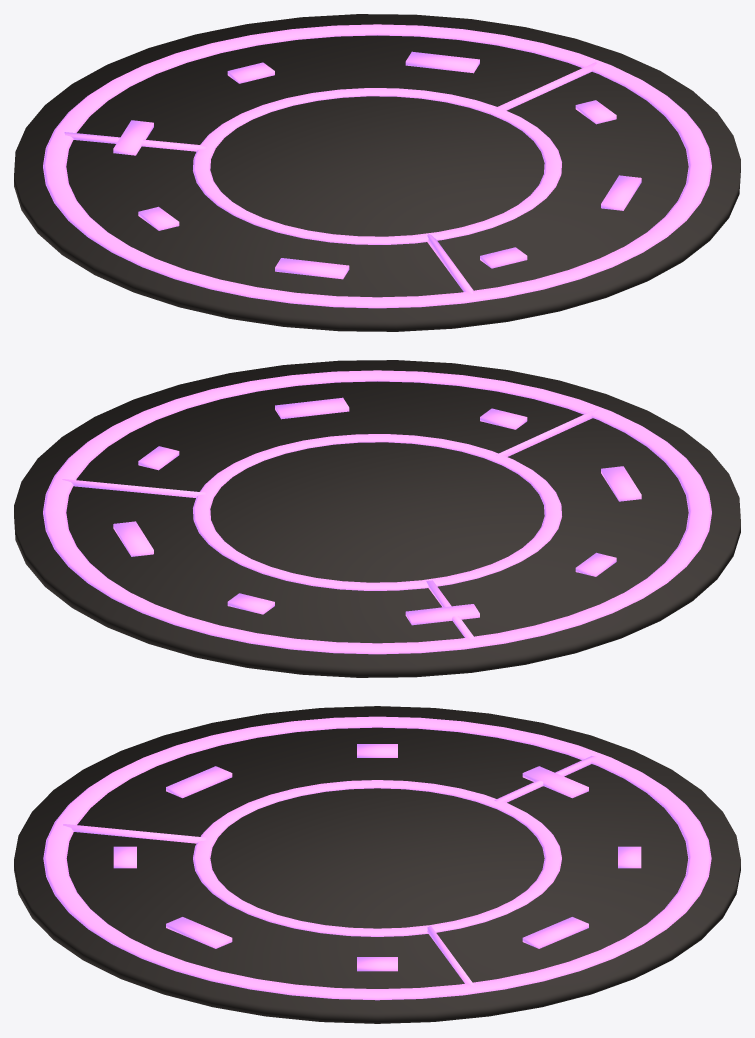
File: rune_circle.glb
The picture shows the model from 3 angles, top to bottom: view 1: azimuth 30°, elevation 25°; view 2: azimuth 150°, elevation 25°; view 3: azimuth 270°, elevation 25°; orthographic projection.
Visible parts, largest first — view 1: Slab, Outer, Inner, Rune1, Rune5, Rune7, Rune3, Spoke1, Spoke0, Spoke2, Rune2, Rune6 (+2 smaller); view 2: Slab, Outer, Inner, Rune7, Rune3, Spoke0, Rune5, Rune1, Spoke2, Rune2, Rune6, Rune4 (+1 smaller); view 3: Slab, Outer, Inner, Spoke2, Rune5, Rune1, Rune7, Rune3, Spoke1, Rune0, Rune4, Rune2 (+1 smaller).
Boxes of the visible parts, left/top/right/bottom form: Slab: left=14, top=14, right=740, bottom=331; Outer: left=43, top=24, right=711, bottom=308; Inner: left=193, top=88, right=561, bottom=244; Rune1: left=405, top=51, right=479, bottom=73; Rune5: left=275, top=258, right=349, bottom=279; Rune7: left=601, top=175, right=641, bottom=210; Rune3: left=113, top=120, right=153, bottom=155; Spoke1: left=64, top=132, right=206, bottom=151; Spoke0: left=495, top=62, right=596, bottom=110; Spoke2: left=427, top=234, right=473, bottom=293; Rune2: left=227, top=62, right=274, bottom=83; Rune6: left=480, top=247, right=527, bottom=268; Slab: left=14, top=360, right=740, bottom=677; Outer: left=43, top=370, right=711, bottom=654; Inner: left=193, top=434, right=561, bottom=590; Rune7: left=275, top=397, right=349, bottom=419; Rune3: left=405, top=604, right=479, bottom=625; Spoke0: left=62, top=479, right=205, bottom=497; Rune5: left=601, top=466, right=641, bottom=501; Rune1: left=113, top=521, right=153, bottom=556; Spoke2: left=496, top=409, right=597, bottom=456; Rune2: left=227, top=593, right=274, bottom=614; Rune6: left=480, top=408, right=527, bottom=429; Rune4: left=575, top=552, right=616, bottom=576; Slab: left=14, top=706, right=740, bottom=1023; Outer: left=43, top=716, right=711, bottom=1000; Inner: left=193, top=780, right=561, bottom=936; Spoke2: left=63, top=824, right=206, bottom=843; Rune5: left=166, top=766, right=232, bottom=798; Rune1: left=522, top=917, right=588, bottom=948; Rune7: left=166, top=917, right=232, bottom=948; Rune3: left=522, top=766, right=588, bottom=798; Spoke1: left=494, top=756, right=597, bottom=802; Rune0: left=357, top=957, right=397, bottom=971; Rune4: left=357, top=744, right=397, bottom=757; Rune2: left=618, top=846, right=641, bottom=868.
Bounding box in the file's own units: 1.24 × 0.0298 × 1.24.
